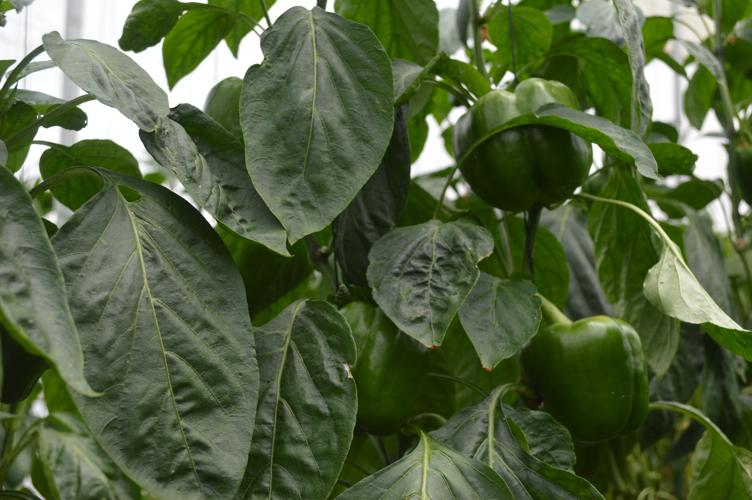BellPepper: (451, 74, 591, 207), (525, 316, 647, 438), (330, 310, 407, 439)
